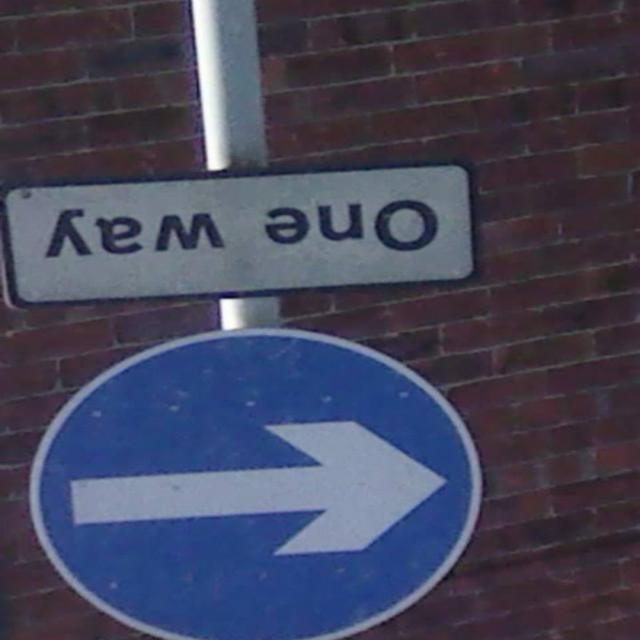Turn Right: (23, 314, 481, 640)
